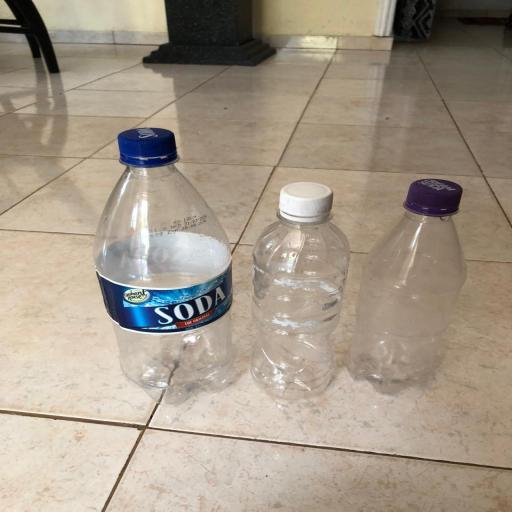waste: (89, 125, 245, 403), (350, 173, 471, 406), (251, 172, 352, 415)
